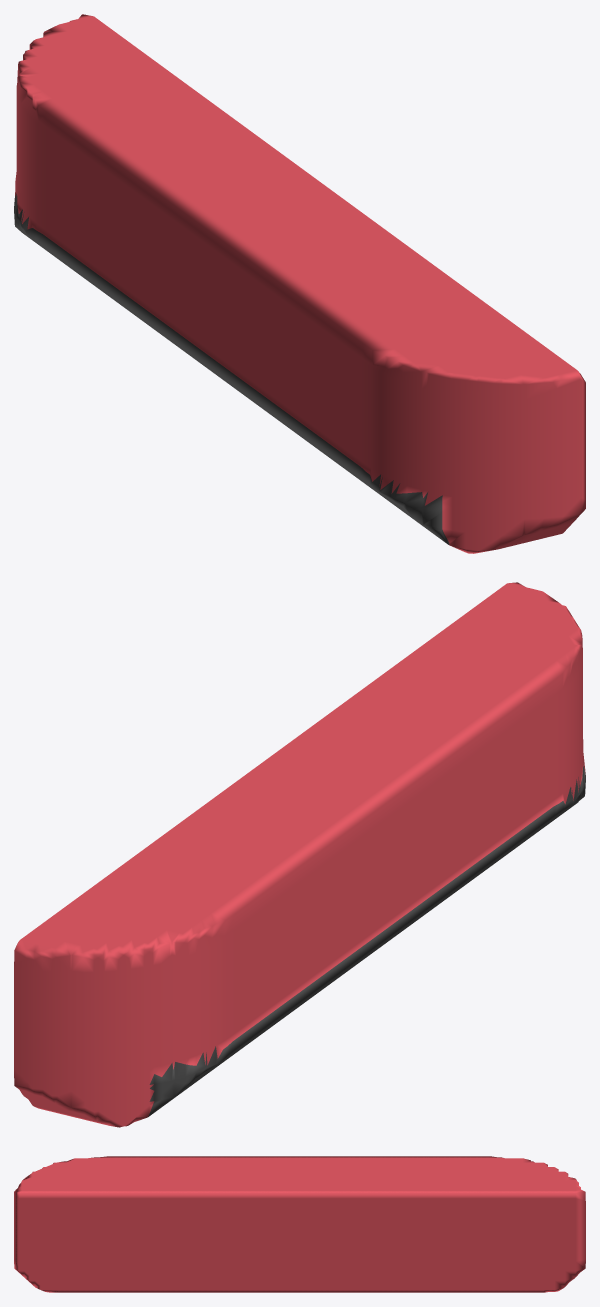
File: bumper_rear.glb
The picture shows the model from 3 angles, top to bottom: view 1: azimuth 30°, elevation 25°; view 2: azimuth 150°, elevation 25°; view 3: azimuth 270°, elevation 25°; orthographic projection. The views are drawn at different scales.
Parts seen in each view (by area): view 1: bumper_rear; view 2: bumper_rear; view 3: bumper_rear.
Part boxes in pixels (x1=…): bumper_rear: x1=14, y1=14, x2=585, y2=553; bumper_rear: x1=14, y1=582, x2=585, y2=1127; bumper_rear: x1=14, y1=1156, x2=585, y2=1292.
Bounding box in the file's own units: 2.79 × 3.52 × 17.56.
